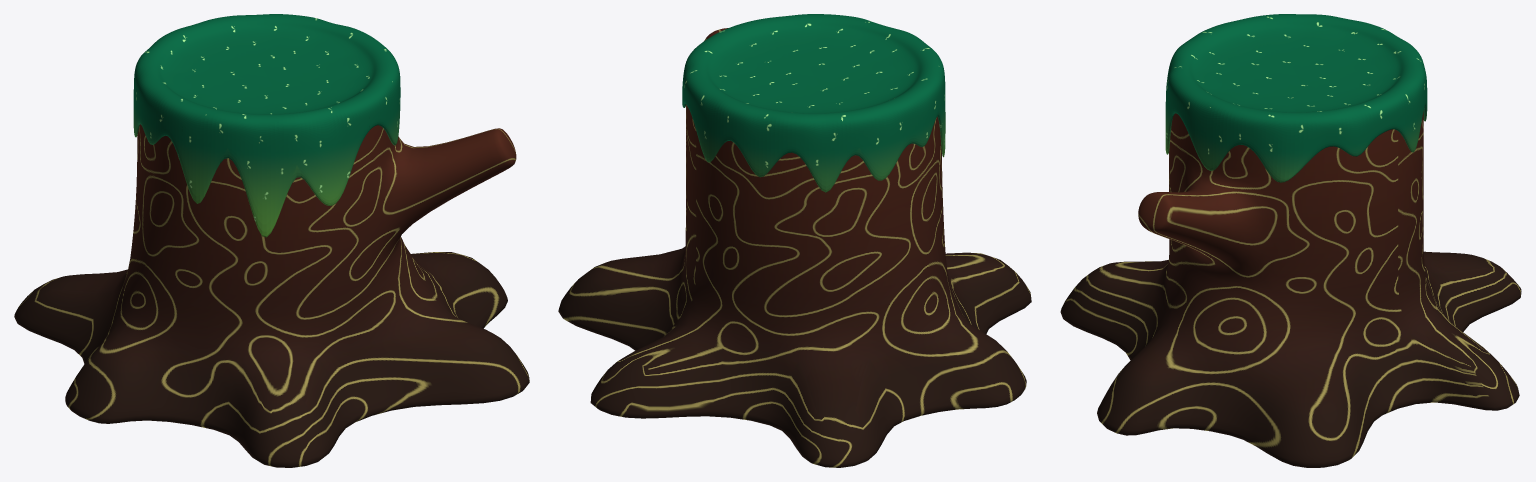
3 renders of one model, left to right at view 1: azimuth 30°, elevation 25°; view 2: azimuth 150°, elevation 25°; view 3: azimuth 270°, elevation 25°, orthographic.
Parts seen in each view (by area): view 1: treestump, moss; view 2: treestump, moss; view 3: treestump, moss.
Boxes of the visible parts, box(x1,y1,x2,y2) form: treestump: box(14, 124, 529, 467); moss: box(133, 14, 400, 237); treestump: box(558, 28, 1031, 467); moss: box(682, 14, 945, 192); treestump: box(1060, 111, 1521, 467); moss: box(1165, 14, 1427, 182).
Size of the model in its own units: 3.77 by 2.41 by 3.46.
2 materials, 2 textured.
